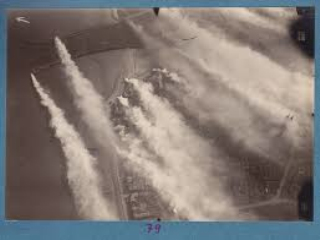smoke: (26, 27, 126, 219), (126, 62, 238, 205)
